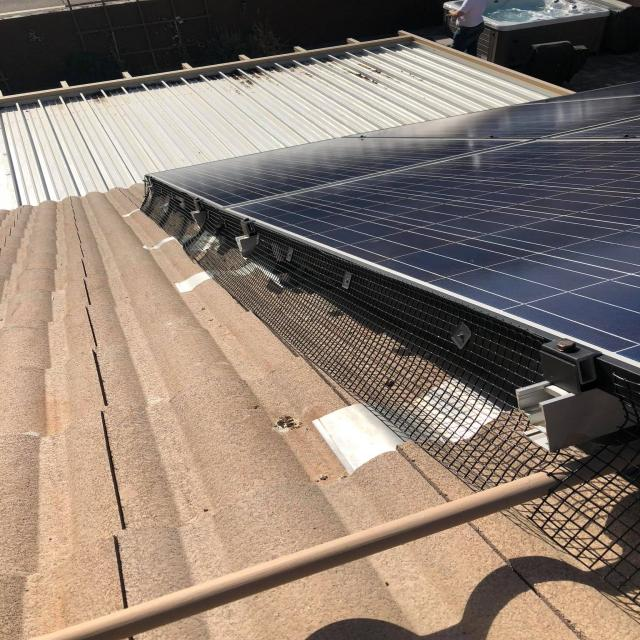clean-solar-panel: (152, 84, 640, 370)
